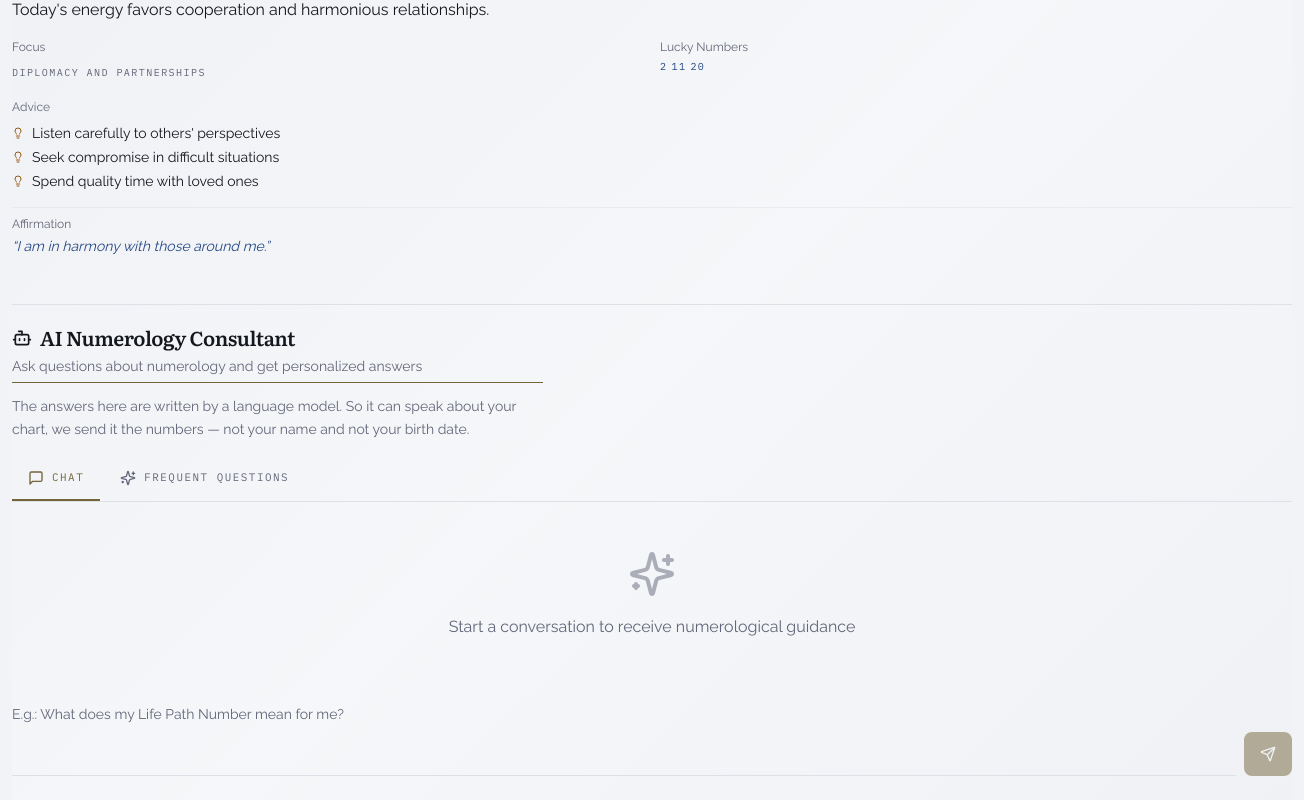
Scenario: when the server answers 502 › shows the generic could-not-get-an-answer text
(page scrolled)
Type "What does my chart say about this year?" into the text box with placeholder "E.g.: What does my Life Path Number mean for me?" at (624, 736), box [12,696,1236,776]
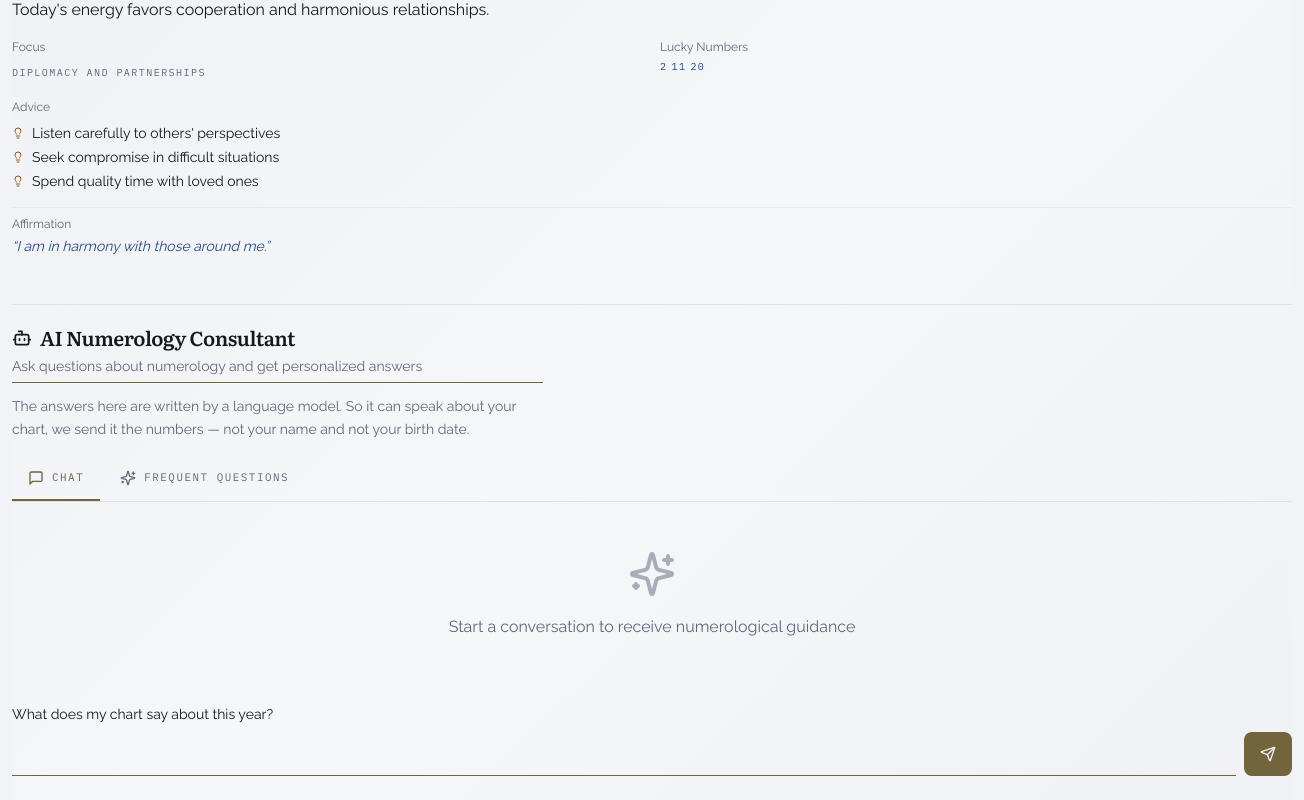
Press Enter
(page scrolled)
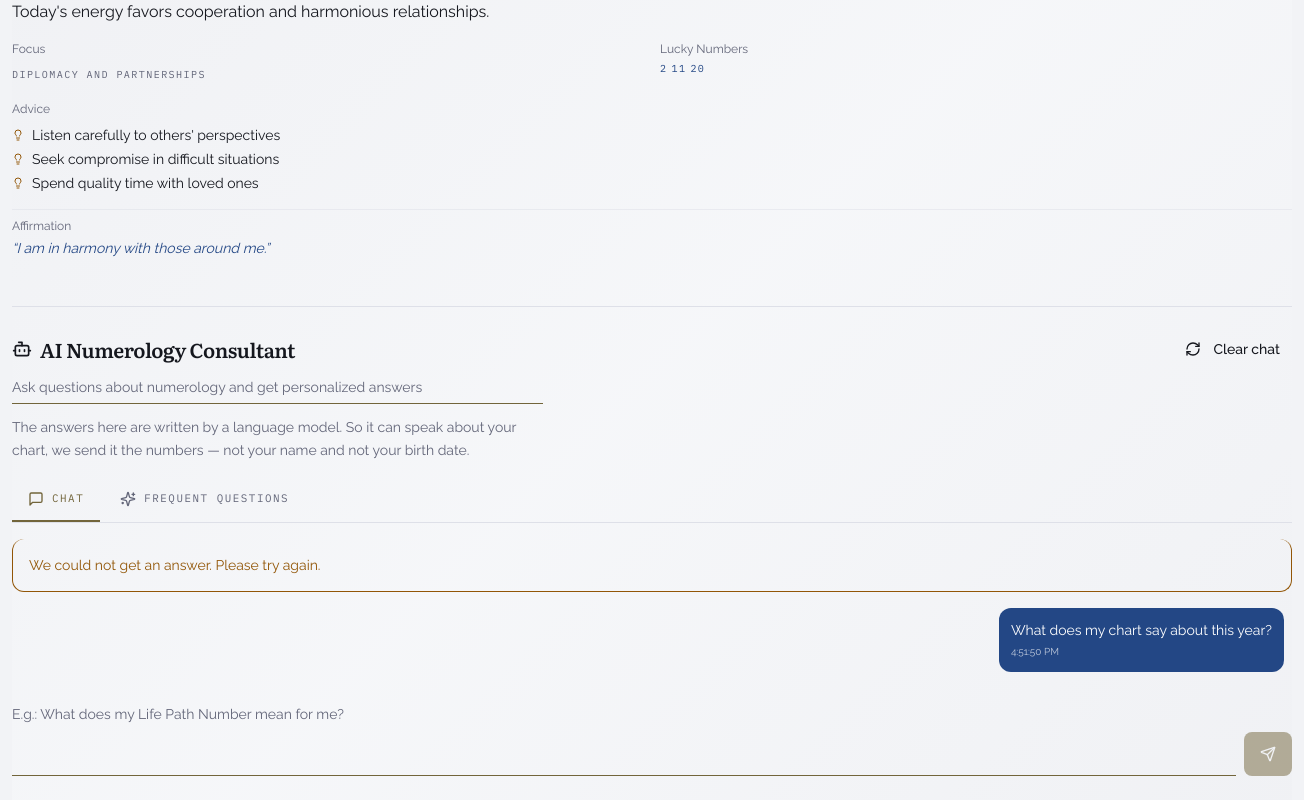
Check: the text "We could not get an answer. Please try again." is shown, box [12,538,1292,592]
